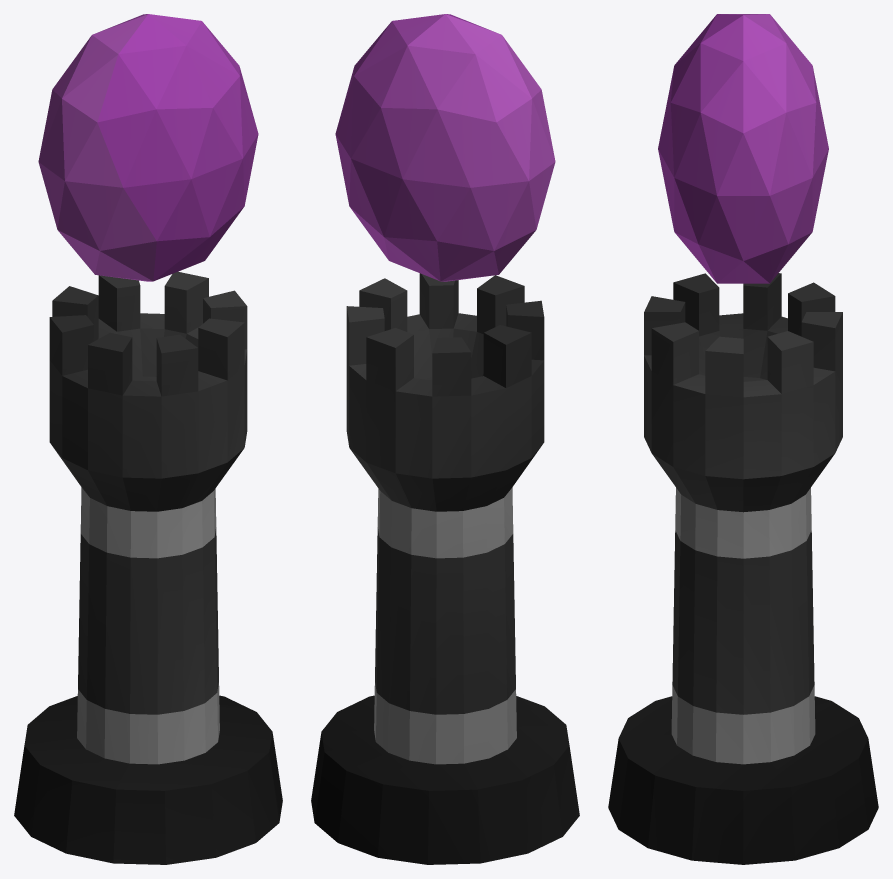
The model's file is MageTower.glb.
3 renders of one model, left to right at view 1: azimuth 30°, elevation 25°; view 2: azimuth 150°, elevation 25°; view 3: azimuth 270°, elevation 25°, orthographic.
Visible parts, largest first — view 1: Tower; view 2: Tower; view 3: Tower.
Boxes of the visible parts, x1,y1,x2,y2 form: Tower: [14, 14, 282, 864]; Tower: [311, 14, 579, 864]; Tower: [608, 14, 878, 864].
Bounding box in the file's own units: 3.07 × 9.92 × 3.07.
1 material, 1 textured.
